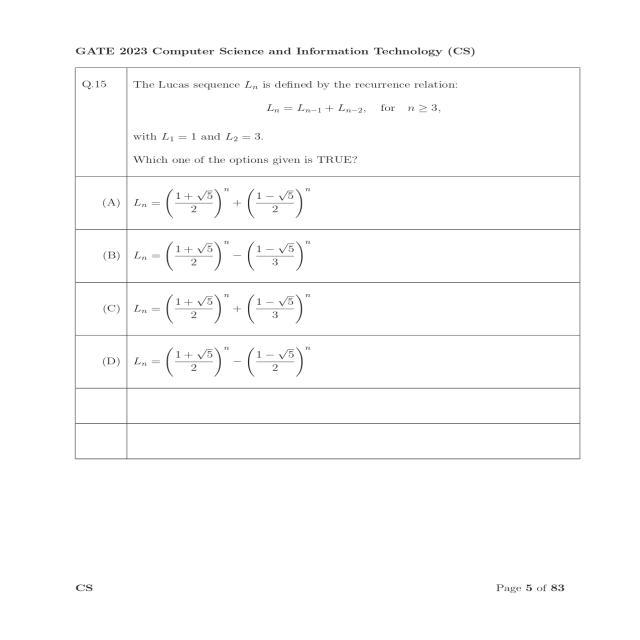Answer_Block: (76, 178, 584, 388)
Instruction: (70, 45, 581, 64)
Question_Answer_Block: (77, 66, 584, 386)
Question_Block: (77, 66, 584, 174)
Question_Paper_Area: (77, 42, 579, 460)
